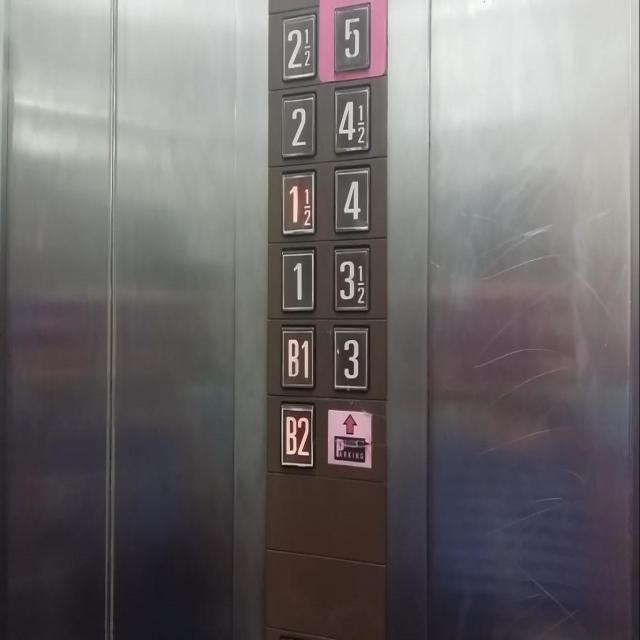1: (280, 245, 317, 311)
2: (278, 89, 317, 159)
3: (331, 324, 368, 389)
4: (334, 168, 371, 234)
5: (332, 0, 372, 75)
B1: (280, 324, 314, 387)
B2: (280, 400, 316, 469)
unknown: (279, 10, 317, 85), (279, 164, 317, 238), (333, 81, 370, 156)
